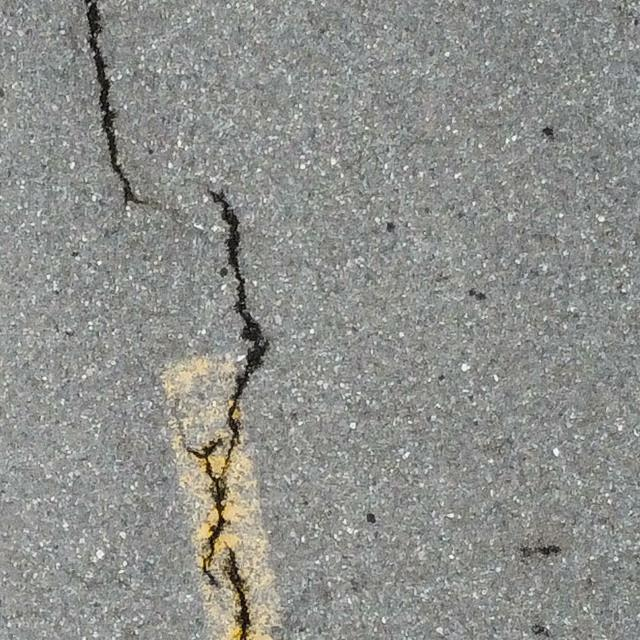LongitudinalCrack: (183, 190, 270, 640), (83, 1, 146, 204)
